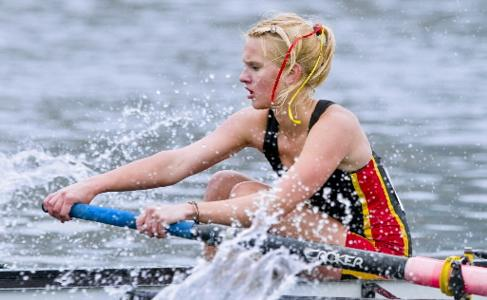person: (43, 14, 417, 285)
